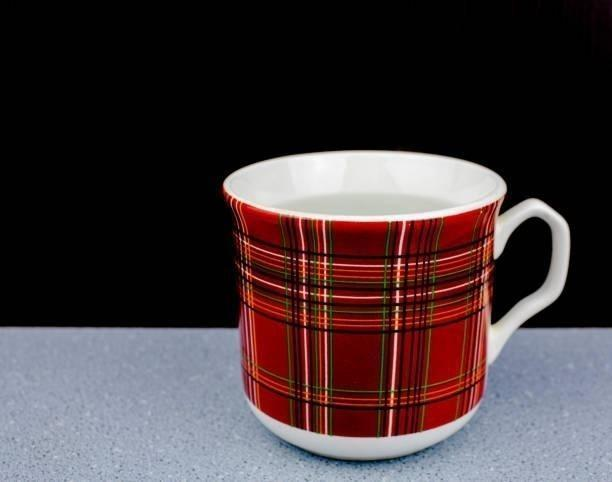cup-handle: (222, 148, 571, 463)
